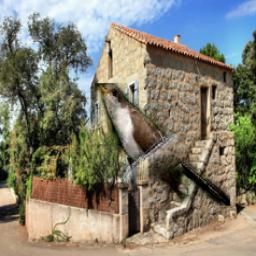Cuckoo: (95, 84, 230, 207)
